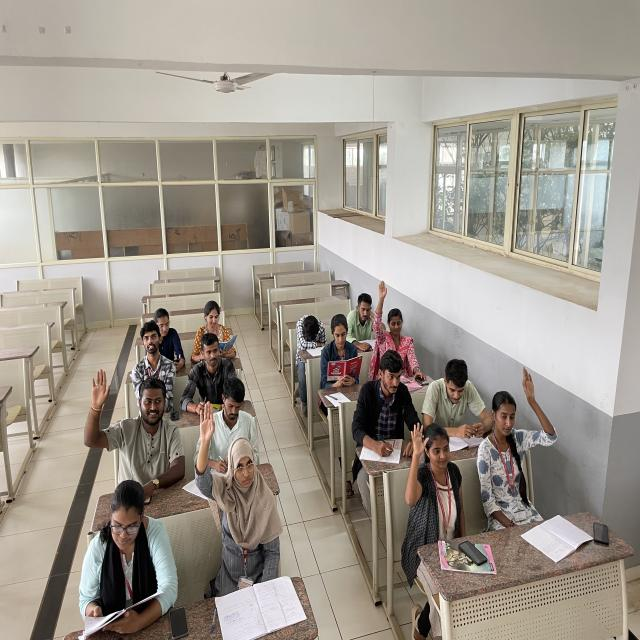Hand Rising: (191, 394, 290, 569), (81, 369, 198, 493), (479, 362, 561, 490), (402, 421, 484, 537), (369, 277, 424, 369)
Reading: (76, 479, 178, 631), (189, 298, 245, 360), (323, 313, 365, 388), (348, 293, 382, 354)
Sleeping: (292, 312, 330, 354)
Writing: (354, 352, 422, 467)
